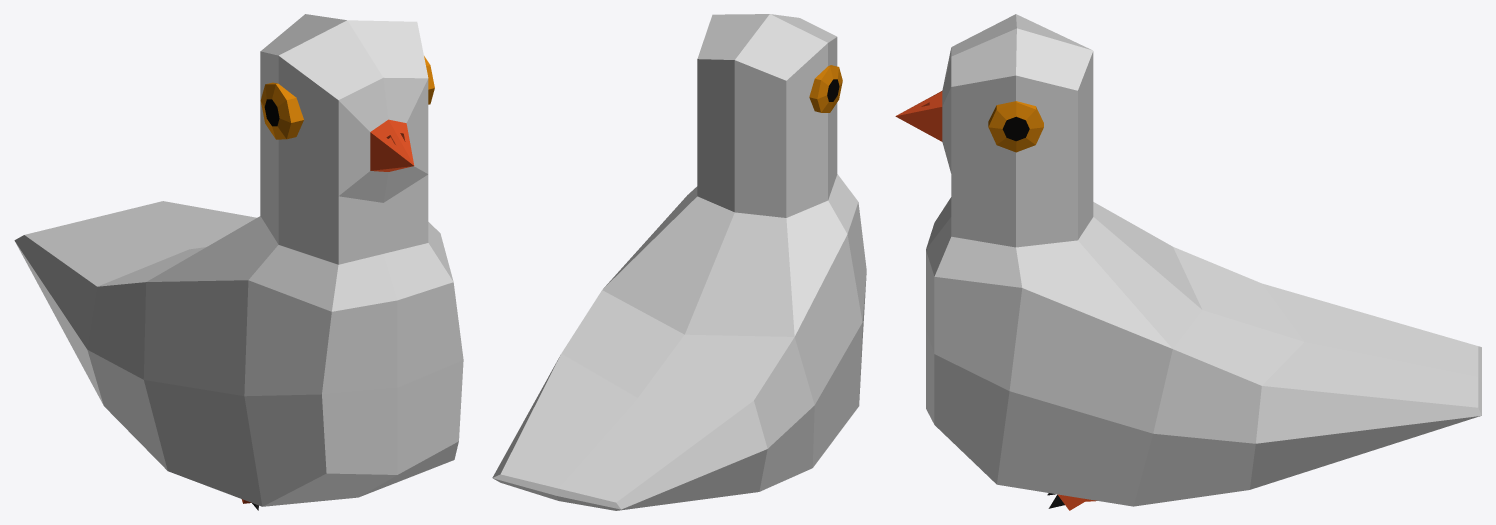
The model's file is Dove_01.fbx.
The picture shows the model from 3 angles, left to right: view 1: azimuth 30°, elevation 25°; view 2: azimuth 150°, elevation 25°; view 3: azimuth 270°, elevation 25°; orthographic projection. The views are drawn at different scales.
Parts seen in each view (by area): view 1: Dove_01; view 2: Dove_01; view 3: Dove_01.
Part boxes in pixels (bbox=[...]): Dove_01: bbox=[14, 14, 463, 510]; Dove_01: bbox=[492, 14, 866, 510]; Dove_01: bbox=[895, 14, 1481, 510].
Size of the model in its own units: 2.72 by 4.91 by 5.9.
